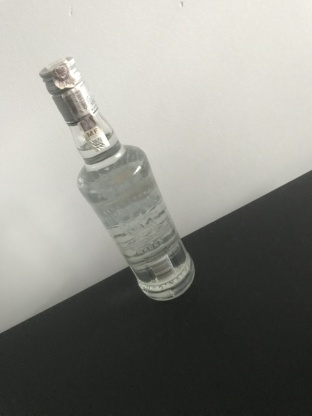nakretka: (37, 53, 99, 128)
